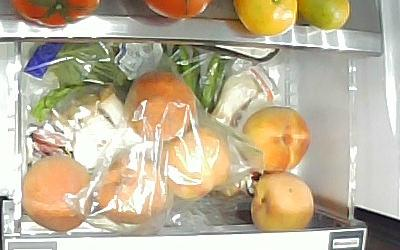peach: (23, 154, 90, 232), (240, 105, 313, 175), (250, 171, 315, 232)
peach_vinyl: (124, 71, 196, 144), (98, 154, 167, 227), (162, 129, 231, 201)
